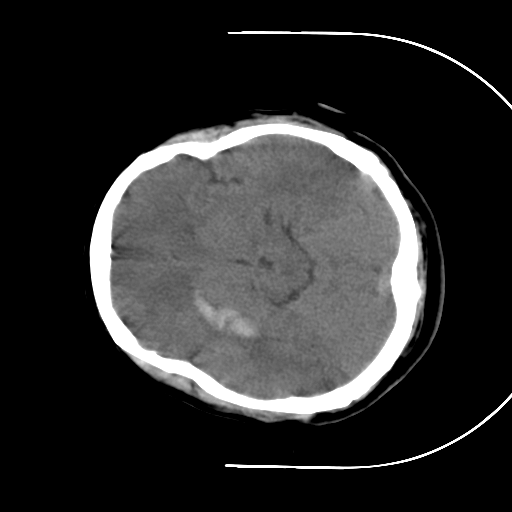a: (170, 265, 282, 362)
